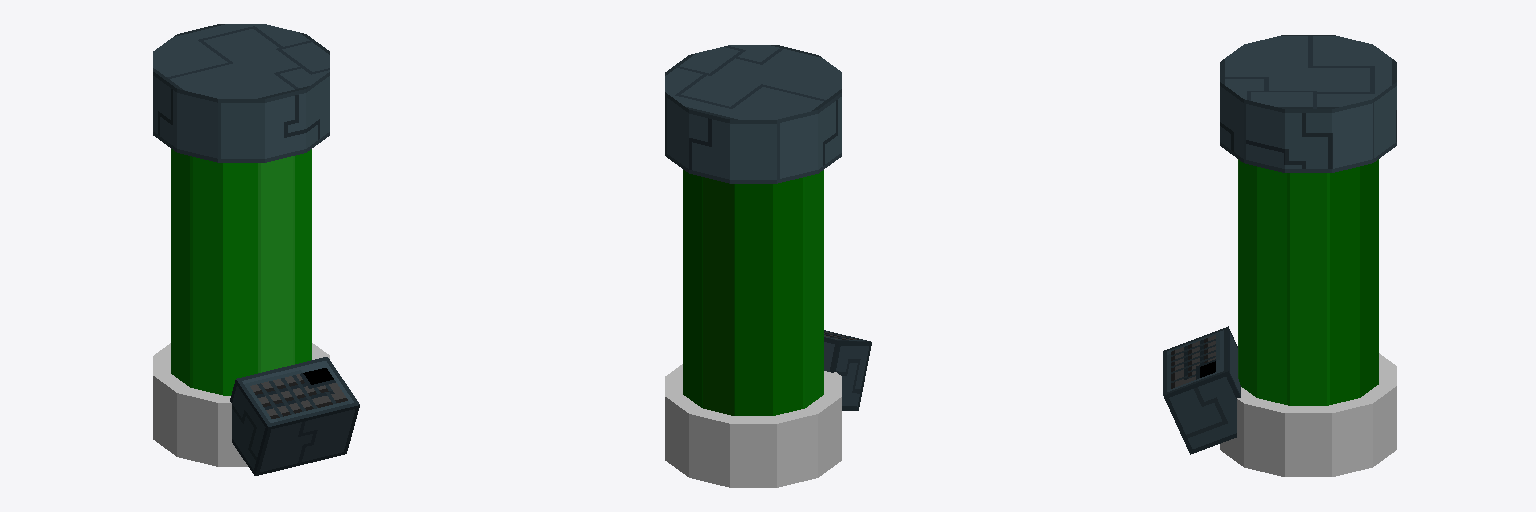
3 renders of one model, left to right at view 1: azimuth 30°, elevation 25°; view 2: azimuth 150°, elevation 25°; view 3: azimuth 270°, elevation 25°, orthographic.
Parts seen in each view (by area): view 1: cylinder, cuboid; view 2: cylinder, cuboid; view 3: cylinder, cuboid.
Part boxes in pixels (x1,y1,x2,y2): cylinder: (153,24,329,466); cuboid: (230,357,359,475); cylinder: (665,45,841,487); cuboid: (824,330,871,410); cylinder: (1220,35,1396,476); cuboid: (1163,326,1240,454).
Bounding box in the file's own units: 0.625 × 1.44 × 0.8264.
4 materials, 3 textured.